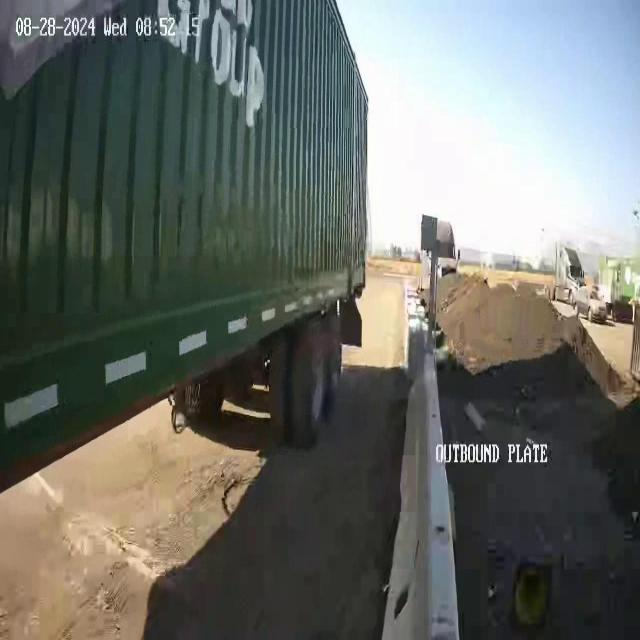TRUCK_OUT: (0, 1, 370, 491)
